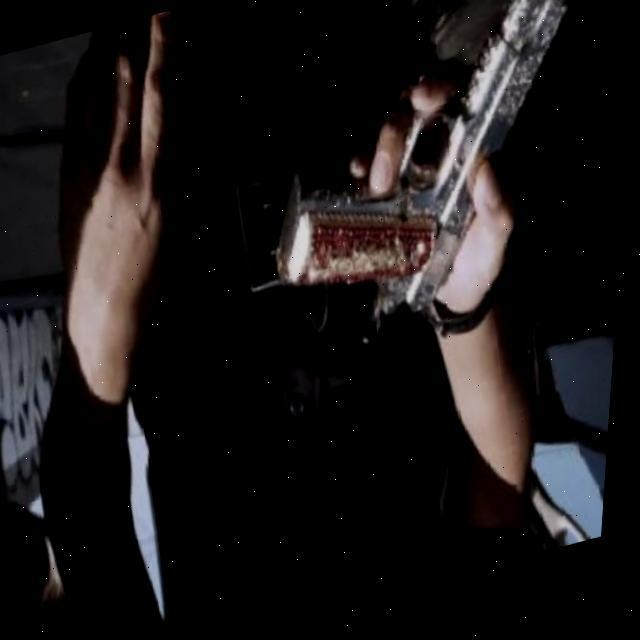gun: (216, 0, 635, 380)
